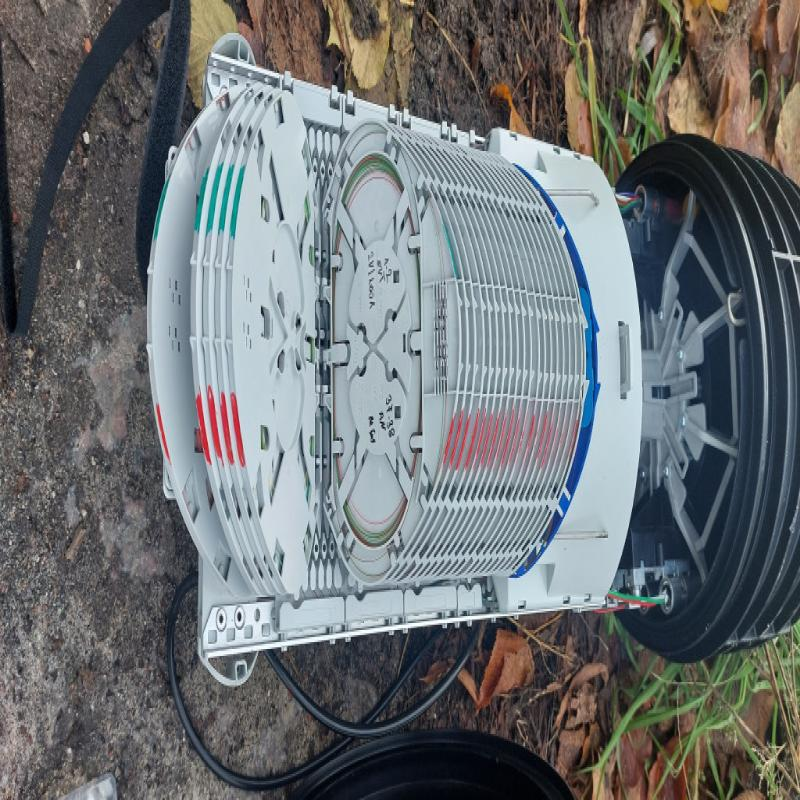NT-Muffen: (136, 27, 799, 688)
